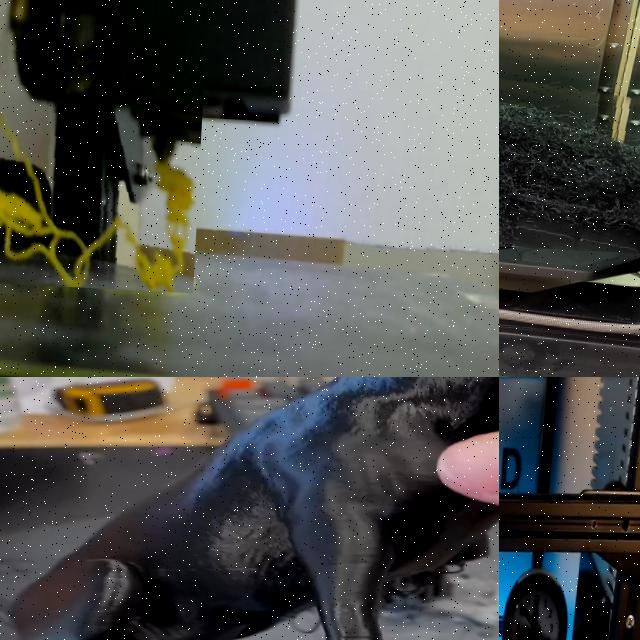spaghetti: (0, 111, 193, 293), (499, 50, 640, 256)
